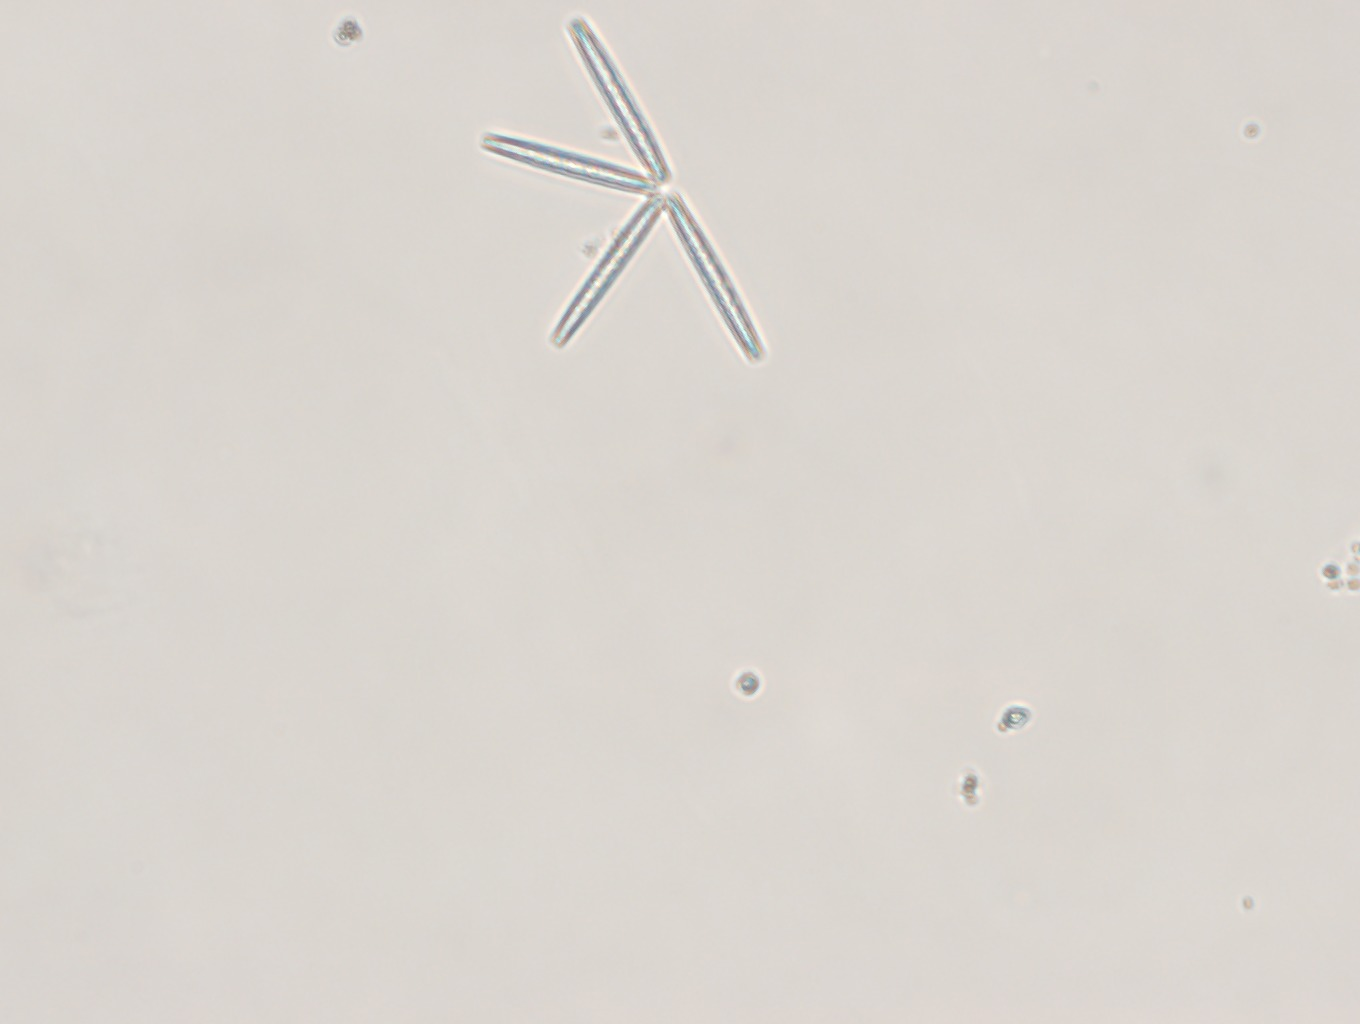thalassionema frauenfeldii: (467, 11, 776, 376)
